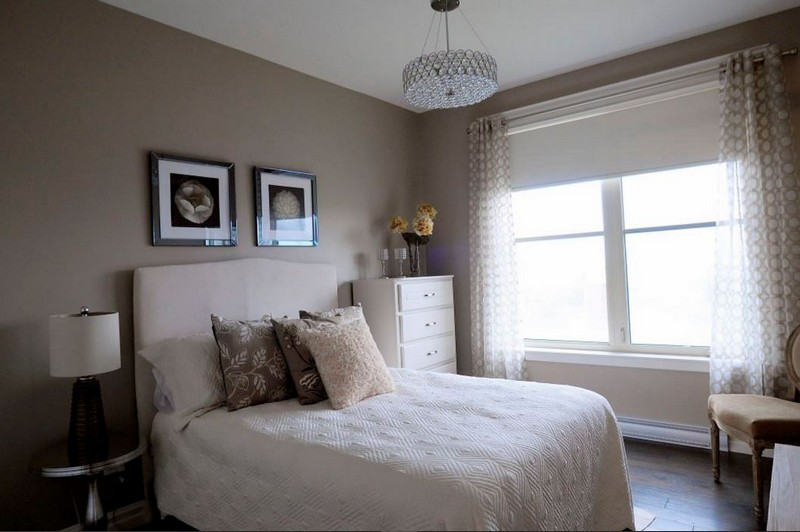bed: (132, 255, 638, 530)
chair: (709, 321, 800, 520)
lamp: (44, 301, 127, 464)
stool: (350, 271, 461, 383)
